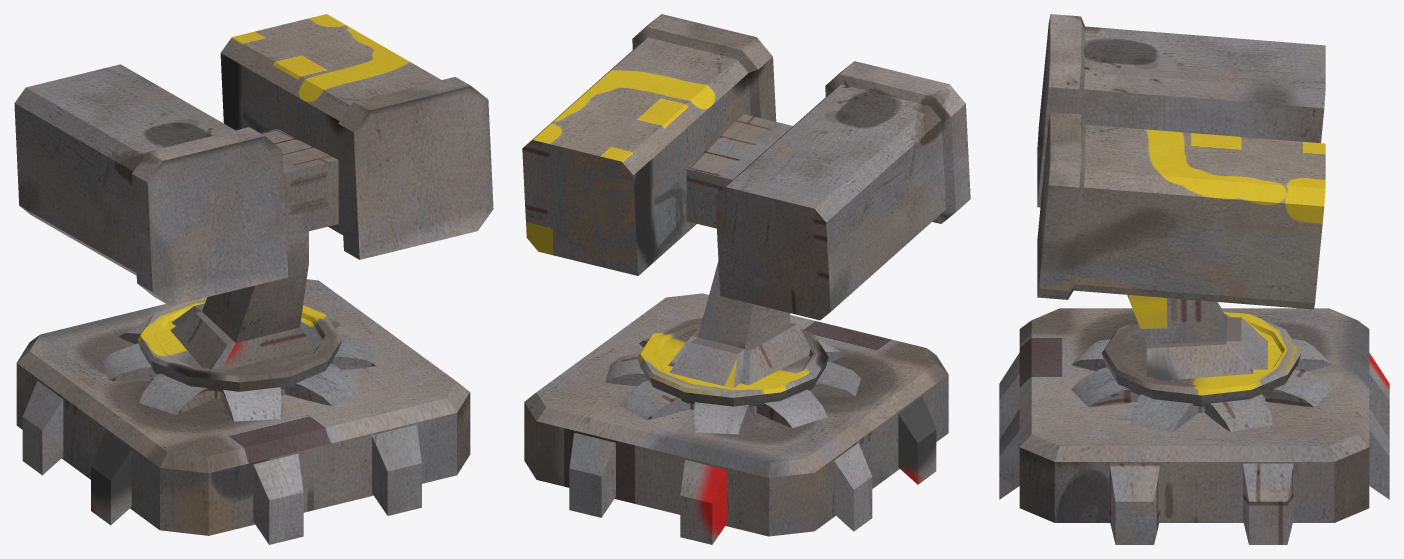
File: MissileTowerModel.fbx
3 renders of one model, left to right at view 1: azimuth 30°, elevation 25°; view 2: azimuth 150°, elevation 25°; view 3: azimuth 270°, elevation 25°, orthographic. The views are drawn at different scales.
Visible parts, largest first — view 1: turr1_platform, pCube16, pCube11, pCube9, turr1_platform_cylinder, pCube8, pCylinder1, pCube14; view 2: pCube16, turr1_platform, pCube11, pCube9, turr1_platform_cylinder, pCube15, pCylinder1, pCube14; view 3: pCube11, turr1_platform, pCube16, pCube9, turr1_platform_cylinder, pCube13, pCylinder1, pCube8, pCube15.
Part boxes in pixels (left/top/right/bottom): turr1_platform: left=16, top=279, right=470, bottom=535; pCube16: left=14, top=64, right=288, bottom=305; pCube11: left=220, top=14, right=493, bottom=259; pCube9: left=170, top=129, right=338, bottom=369; turr1_platform_cylinder: left=103, top=319, right=376, bottom=421; pCube8: left=253, top=424, right=421, bottom=544; pCylinder1: left=137, top=297, right=341, bottom=391; pCube14: left=22, top=381, right=131, bottom=525; pCube16: left=715, top=61, right=970, bottom=320; turr1_platform: left=524, top=293, right=948, bottom=536; pCube11: left=522, top=14, right=776, bottom=275; pCube9: left=668, top=114, right=812, bottom=387; turr1_platform_cylinder: left=605, top=338, right=860, bottom=434; pCube15: left=569, top=433, right=726, bottom=544; pCylinder1: left=637, top=318, right=828, bottom=406; pCube14: left=834, top=396, right=936, bottom=531; pCube11: left=1037, top=112, right=1325, bottom=309; turr1_platform: left=1019, top=308, right=1369, bottom=522; pCube16: left=1037, top=14, right=1325, bottom=207; pCube9: left=1127, top=295, right=1267, bottom=380; turr1_platform_cylinder: left=1071, top=339, right=1331, bottom=432; pCube13: left=1109, top=463, right=1293, bottom=544; pCylinder1: left=1102, top=311, right=1301, bottom=406; pCube8: left=999, top=353, right=1019, bottom=499; pCube15: left=1369, top=353, right=1389, bottom=499.
Size of the model in its own units: 169 by 179 by 169.
1 material, 1 textured.
